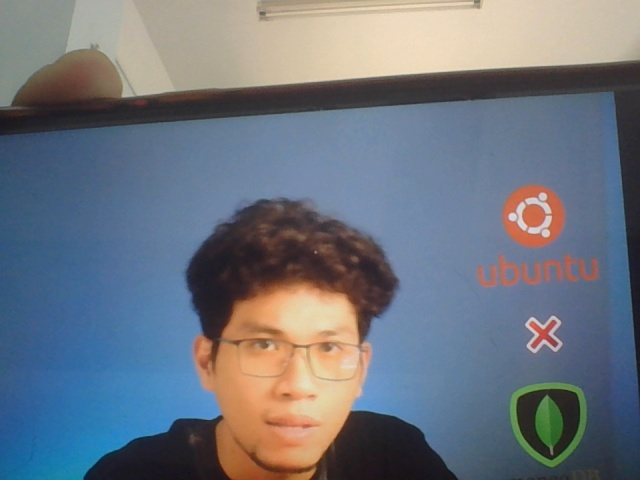fake: (195, 219, 378, 479)
